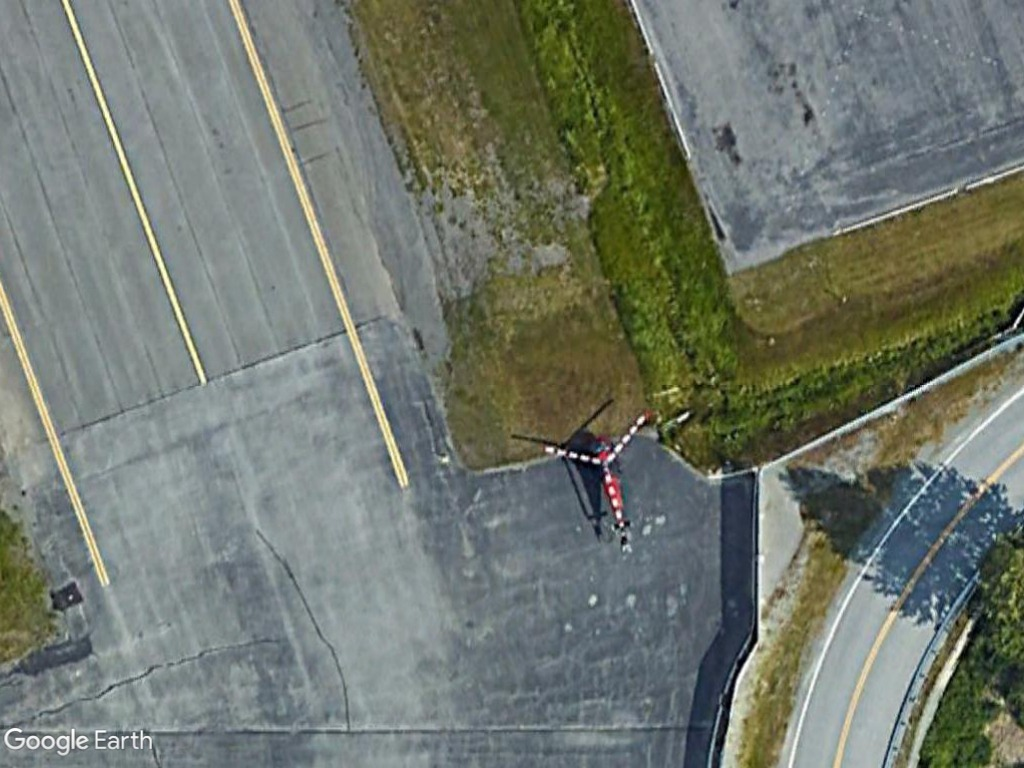helicopter: (537, 399, 661, 564)
